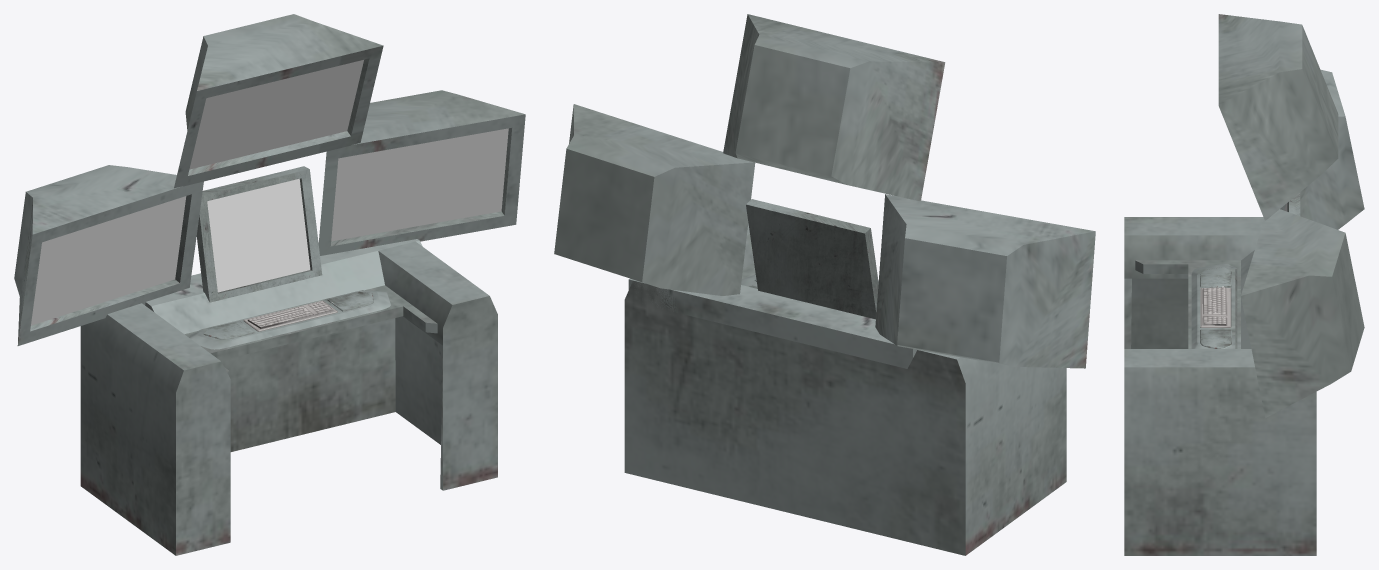
File: newpc.glb
The picture shows the model from 3 angles, left to right: view 1: azimuth 30°, elevation 25°; view 2: azimuth 150°, elevation 25°; view 3: azimuth 270°, elevation 25°; orthographic projection. The views are drawn at different scales.
Parts seen in each view (by area): view 1: computer-col; view 2: computer-col; view 3: computer-col.
Part boxes in pixels (bbox=[...]): computer-col: bbox=[14, 14, 525, 555]; computer-col: bbox=[554, 14, 1095, 555]; computer-col: bbox=[1124, 14, 1364, 555].
Bounding box in the file's own units: 3.23 × 2.64 × 1.34.
3 materials, 2 textured.
